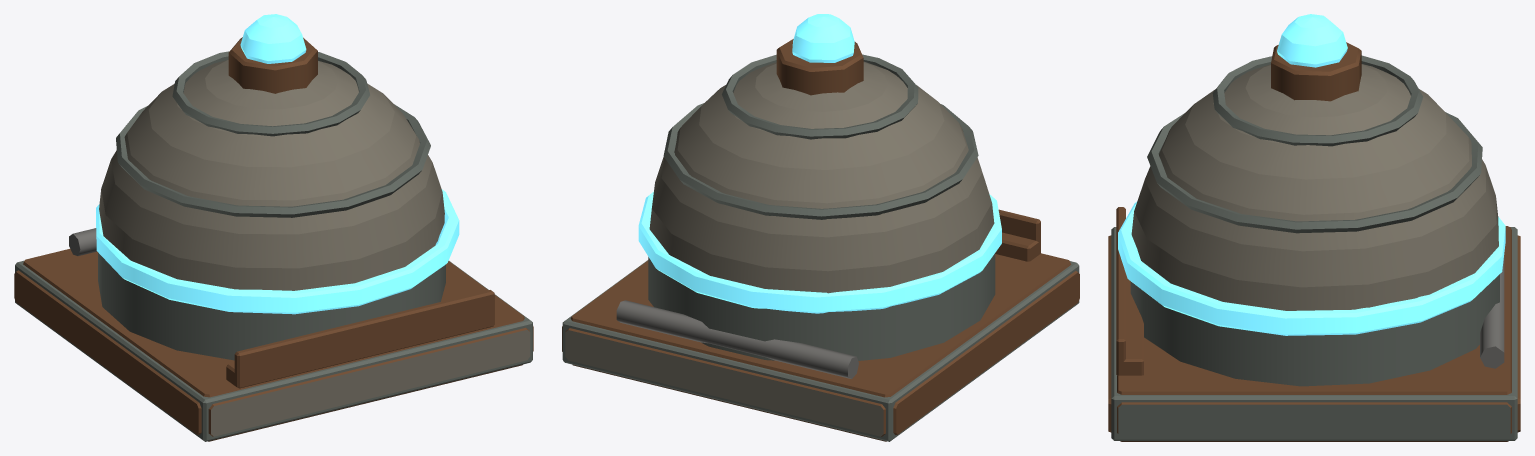
The model's file is R4X_PersonalShield.fbx.
3 renders of one model, left to right at view 1: azimuth 30°, elevation 25°; view 2: azimuth 150°, elevation 25°; view 3: azimuth 270°, elevation 25°, orthographic. The views are drawn at different scales.
Parts seen in each view (by area): view 1: R4X_PersonalShield_Body; view 2: R4X_PersonalShield_Body; view 3: R4X_PersonalShield_Body.
Boxes of the visible parts, x1=… form: R4X_PersonalShield_Body: x1=14, y1=14, x2=533, y2=441; R4X_PersonalShield_Body: x1=562, y1=14, x2=1079, y2=441; R4X_PersonalShield_Body: x1=1108, y1=14, x2=1520, y2=441.
Size of the model in its own units: 0.52 by 0.475 by 0.52.
